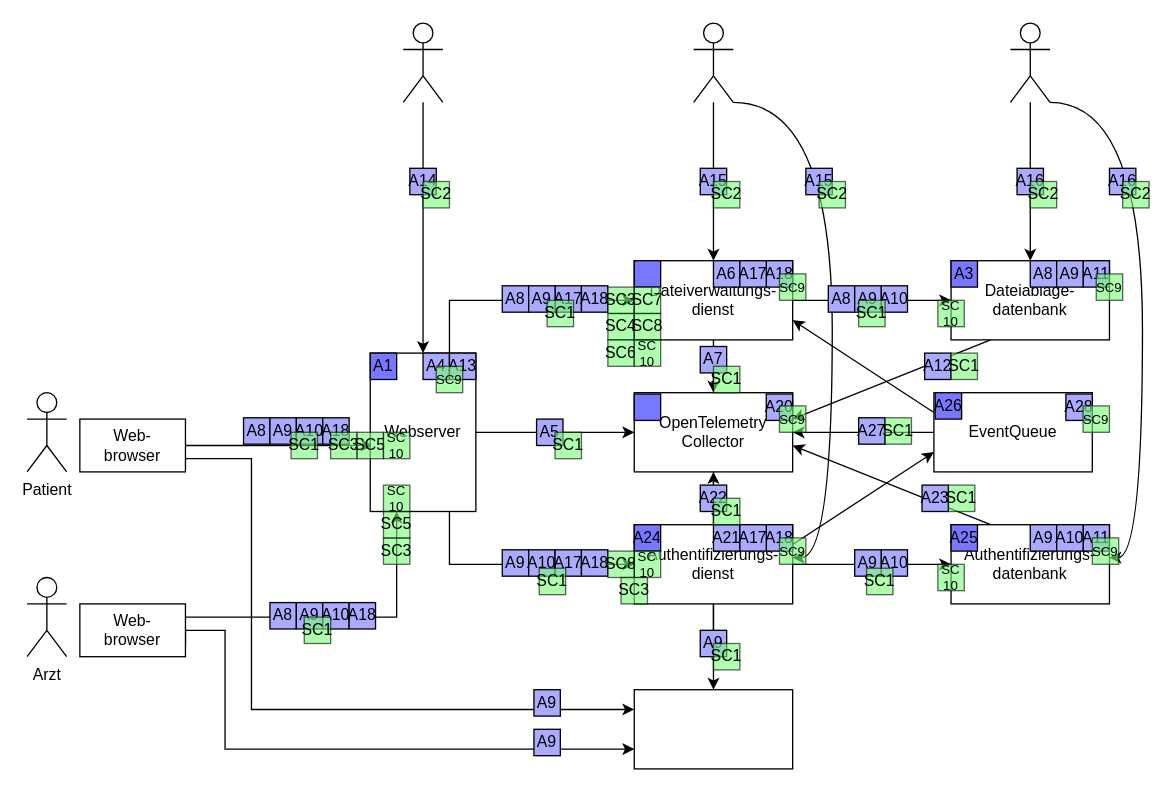
Image size: 1173x792. Some labels were removed from this diagram. The shapes that lost their labels are listed below. From the top down, each one's centre as x and y in pixels, then its label:
At (x=422, y=62): "Webserver- administrator".
At (x=712, y=62): "Anwendungs- administrator".
At (x=1029, y=62): "Datenbank- administrator".
At (x=647, y=273): "A2".
At (x=647, y=406): "A19".
At (x=713, y=728): "Externer IDP".
